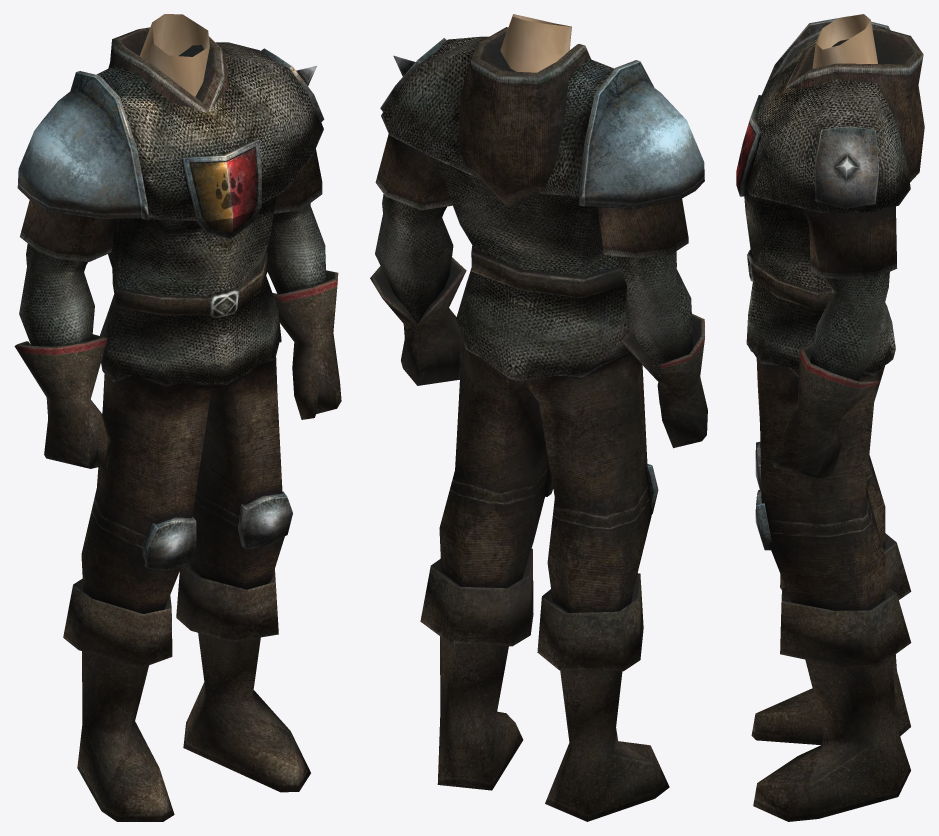
The model's file is KM_HCH_ARMOR.glb.
The picture shows the model from 3 angles, left to right: view 1: azimuth 30°, elevation 25°; view 2: azimuth 150°, elevation 25°; view 3: azimuth 270°, elevation 25°; orthographic projection. The views are drawn at different scales.
Parts seen in each view (by area): view 1: KM_HCH_ARMOR; view 2: KM_HCH_ARMOR; view 3: KM_HCH_ARMOR.
Boxes of the visible parts, bbox=[...] form: KM_HCH_ARMOR: bbox=[14, 14, 341, 821]; KM_HCH_ARMOR: bbox=[370, 14, 707, 821]; KM_HCH_ARMOR: bbox=[736, 14, 924, 821].
Bounding box in the file's own units: 0.7307 × 1.7 × 0.3856.
3 materials, 3 textured.
